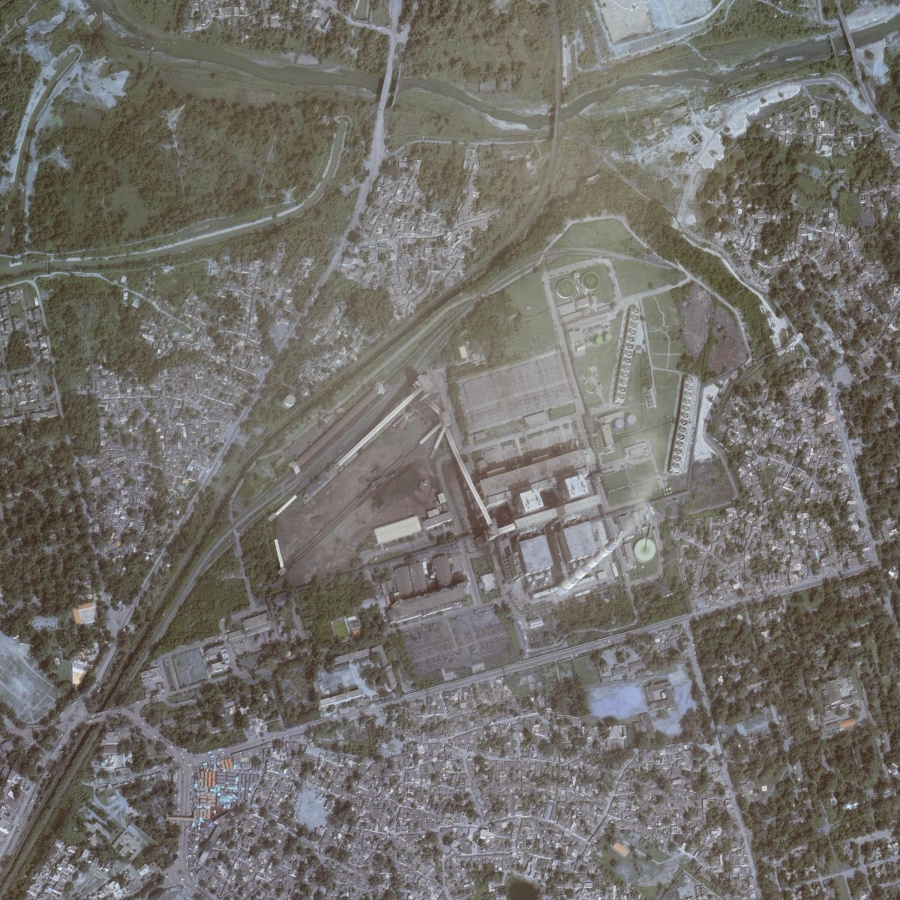PowerPlant: (271, 265, 713, 619)
